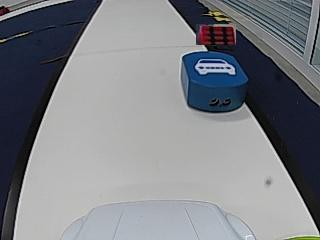safety: (194, 56, 236, 75)
